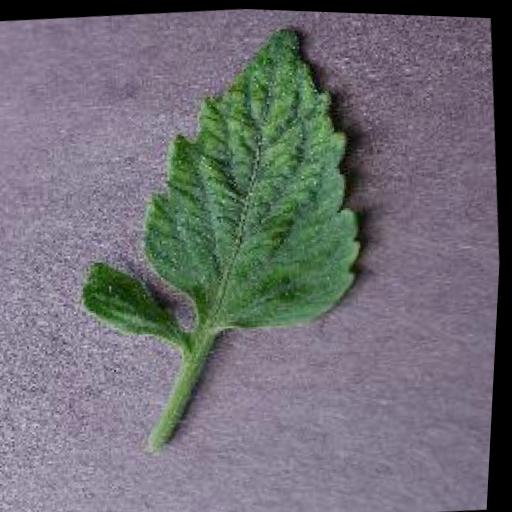Mosaic Virus: (123, 11, 380, 347)
